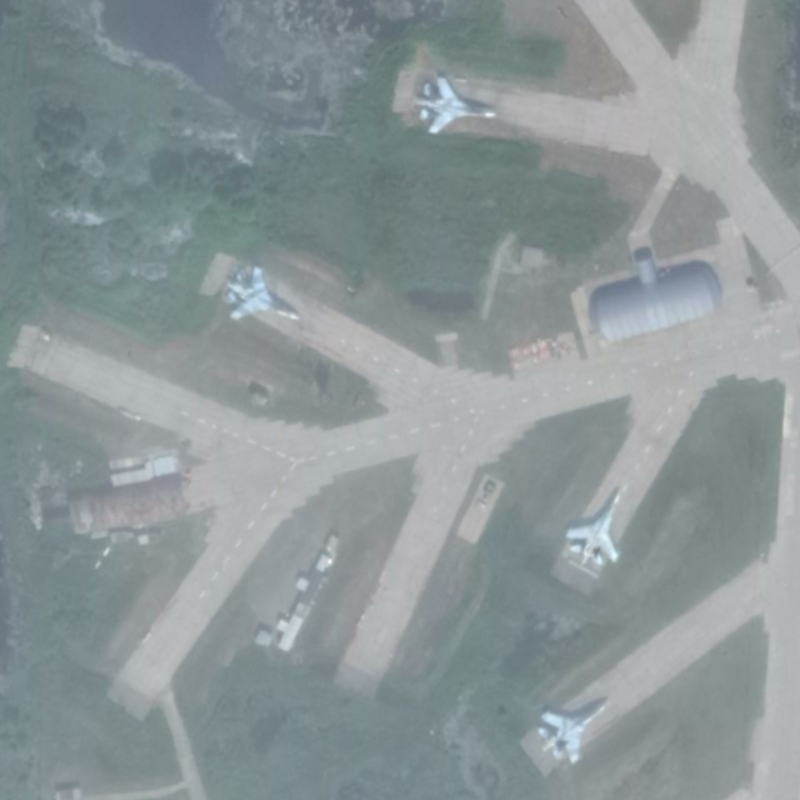A1: (534, 694, 613, 767), (410, 72, 498, 136), (564, 485, 625, 569), (222, 262, 304, 322)
